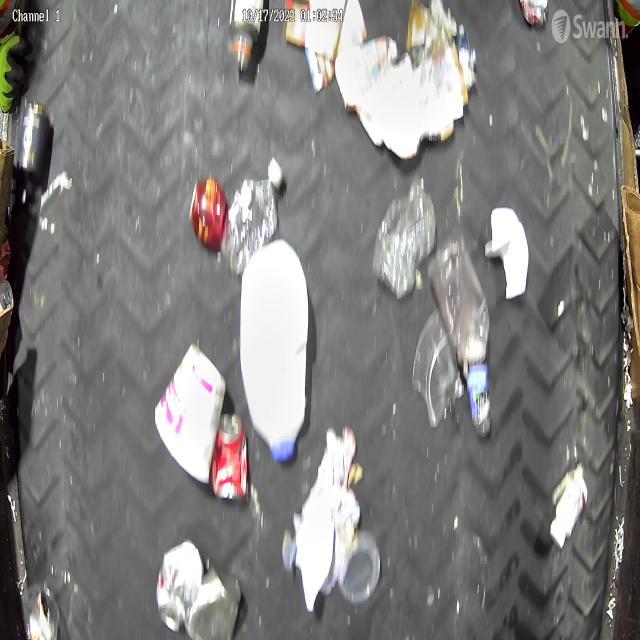milk-jug: (240, 239, 312, 468)
